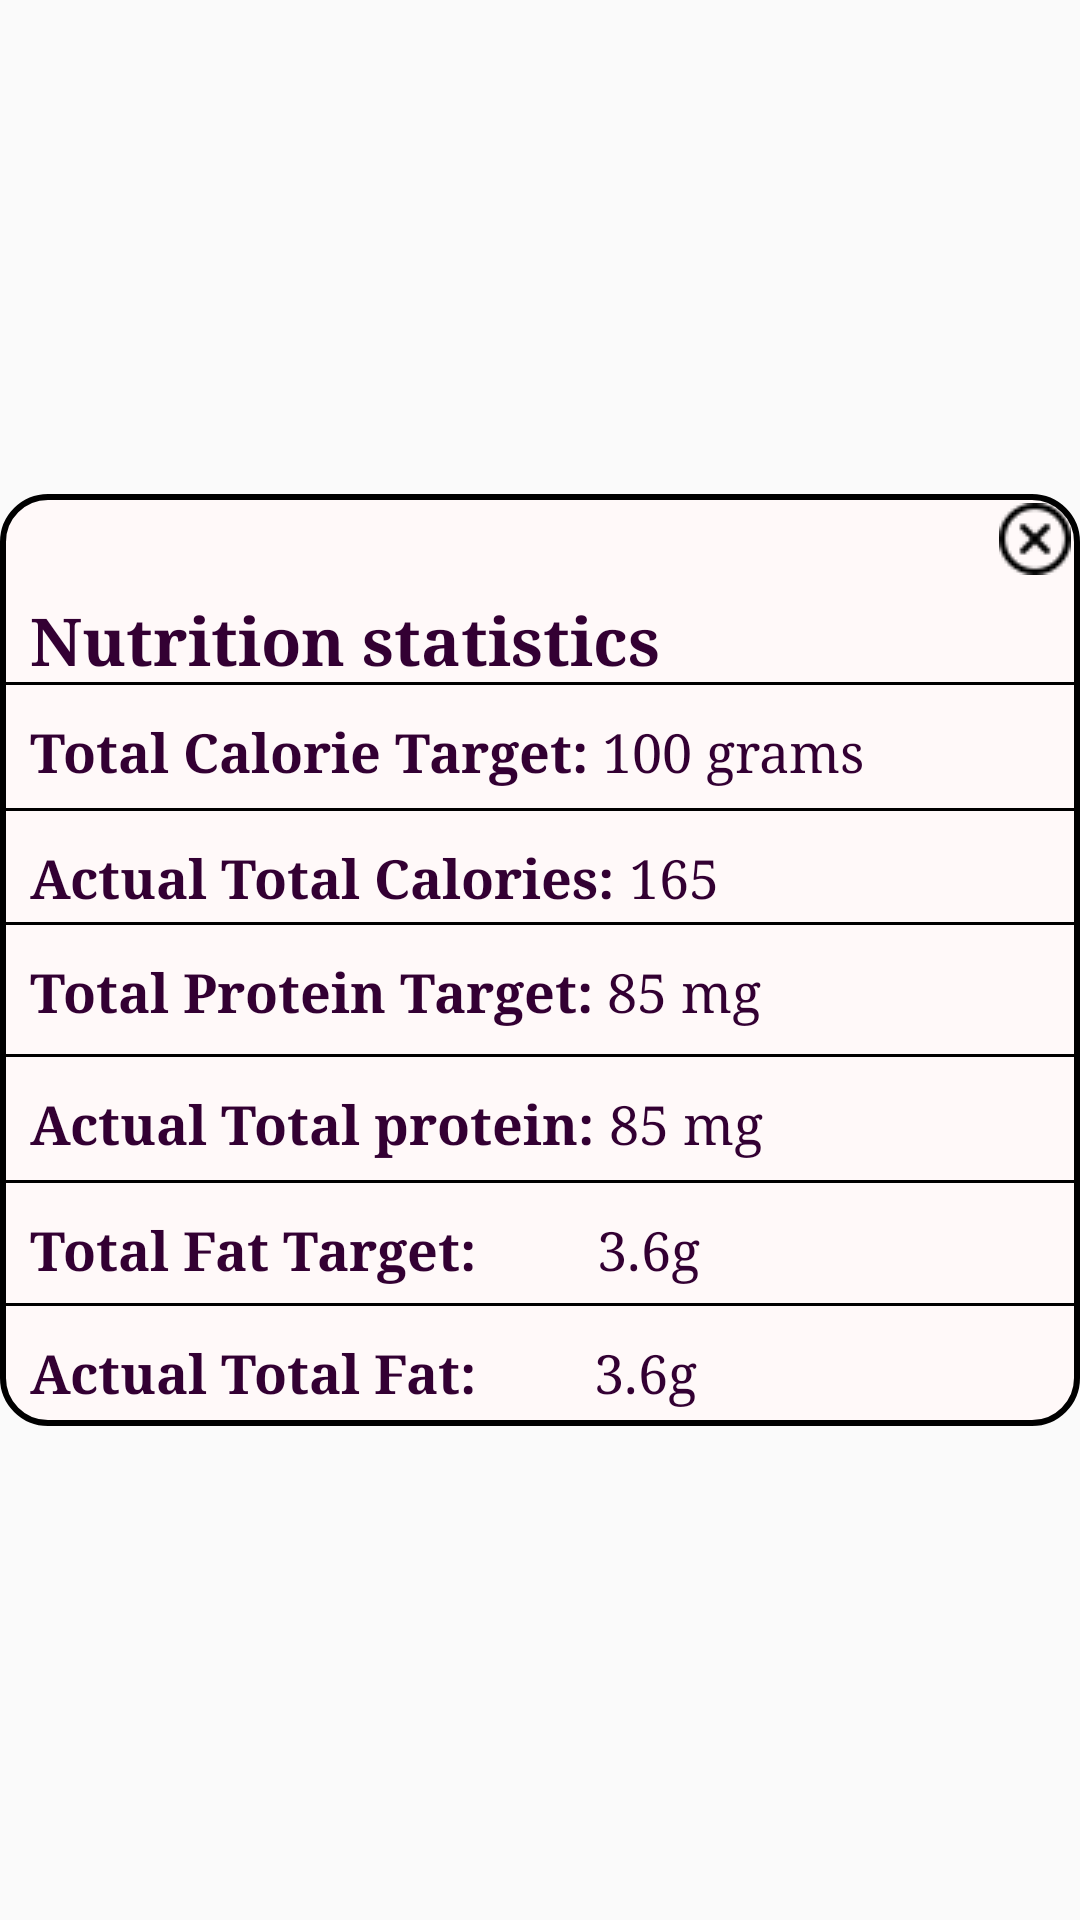

Locate icon controls on the screen. Image size 1080px×1920px, boxes as (x1, y1, x2, y2).
closebutton: (999, 503, 1071, 575)
